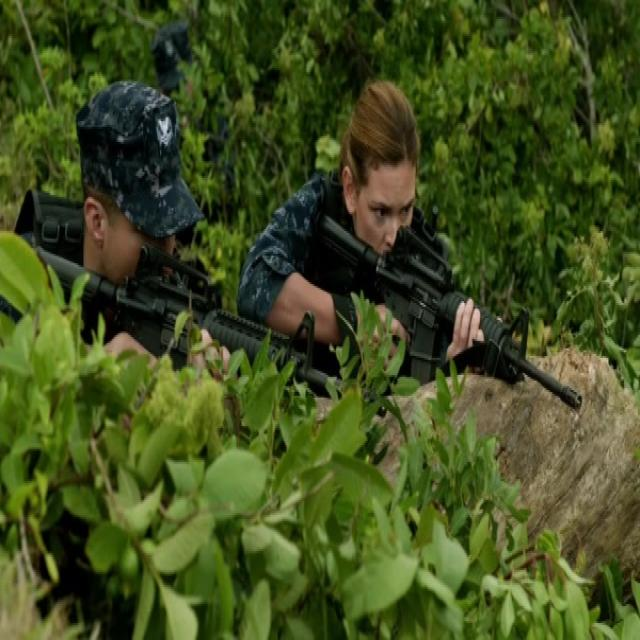rifle: (313, 208, 588, 417)
